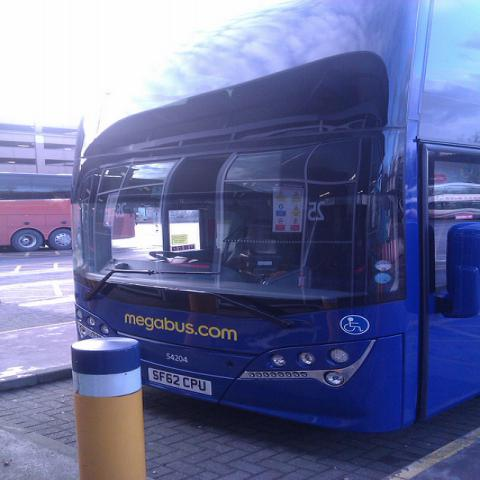bus: (74, 0, 479, 435), (2, 128, 79, 252)
